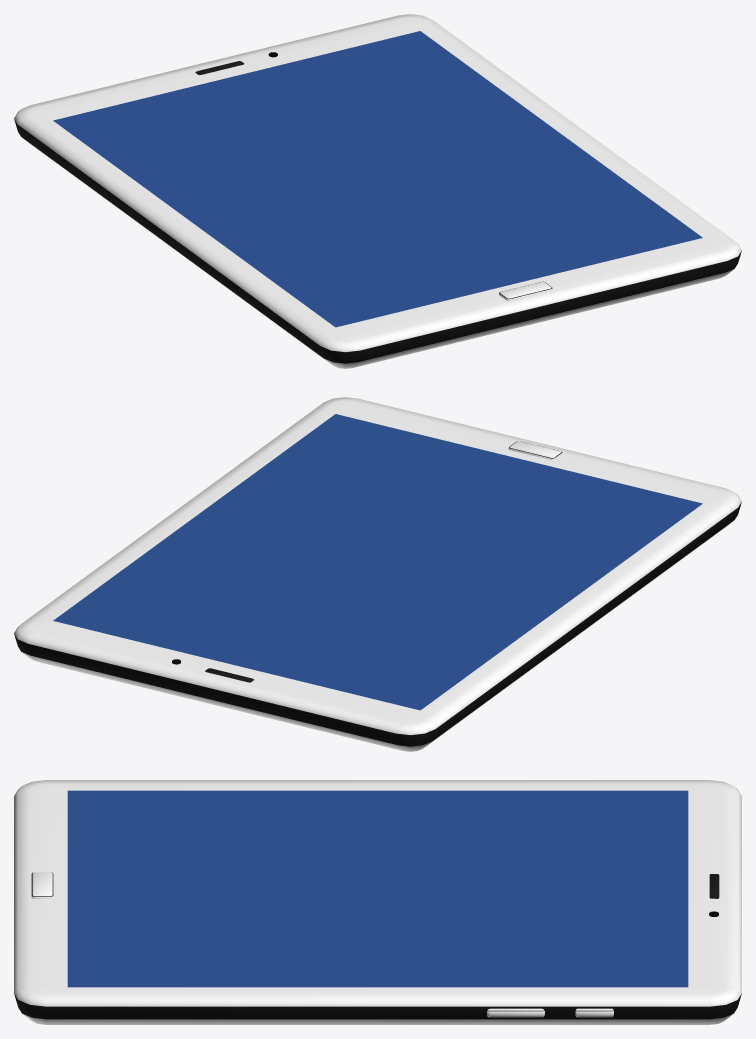
The model's file is Tablet_1350.obj.
3 views of the same model, one above another, from view 1: azimuth 30°, elevation 25°; view 2: azimuth 150°, elevation 25°; view 3: azimuth 270°, elevation 25° (orthographic). The views are drawn at different scales.
Visible parts, largest first — view 1: ChamferBox001; view 2: ChamferBox001; view 3: ChamferBox001, ChamferBox002, ChamferBox005.
Part boxes in pixels (bbox=[...]): ChamferBox001: bbox=[14, 14, 741, 368]; ChamferBox001: bbox=[14, 397, 741, 751]; ChamferBox001: bbox=[14, 780, 741, 1024]; ChamferBox002: bbox=[31, 872, 53, 898]; ChamferBox005: bbox=[487, 1008, 544, 1017].
Bounding box in the file's own units: 44.12 × 3.65 × 60.34.
